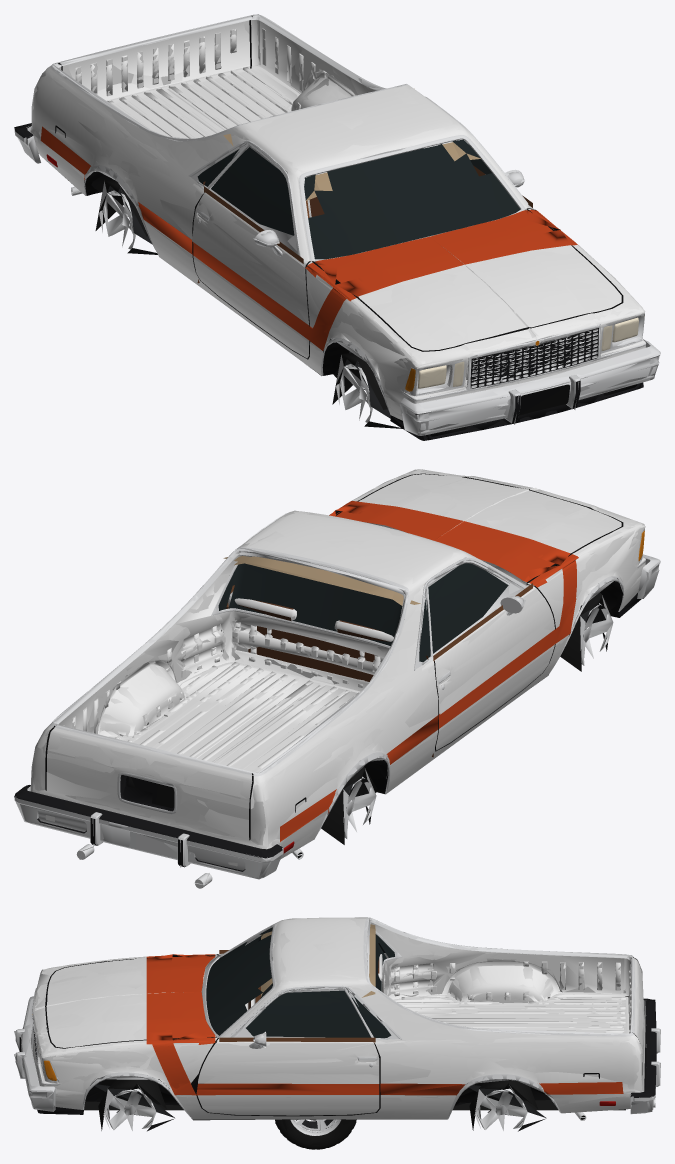
File: ute1.glb
The picture shows the model from 3 angles, top to bottom: view 1: azimuth 30°, elevation 25°; view 2: azimuth 150°, elevation 25°; view 3: azimuth 270°, elevation 25°; orthographic projection. The views are drawn at different scales.
Visible parts, largest first — view 1: body0, body2, body1; view 2: body0, body2, body1; view 3: body0, body2, body1, wheel0, wheel1.
Part boxes in pixels (left/top/right/bottom): body0: left=15, top=15, right=660, bottom=440; body2: left=14, top=14, right=659, bottom=437; body1: left=14, top=14, right=659, bottom=440; body0: left=14, top=469, right=660, bottom=888; body2: left=14, top=469, right=650, bottom=884; body1: left=15, top=469, right=659, bottom=888; body0: left=15, top=917, right=660, bottom=1120; body2: left=14, top=917, right=660, bottom=1131; body1: left=16, top=917, right=659, bottom=1120; wheel0: left=275, top=1119, right=356, bottom=1149; wheel1: left=275, top=1119, right=356, bottom=1149.
Size of the model in its own units: 1.91 by 1.72 by 5.09.
